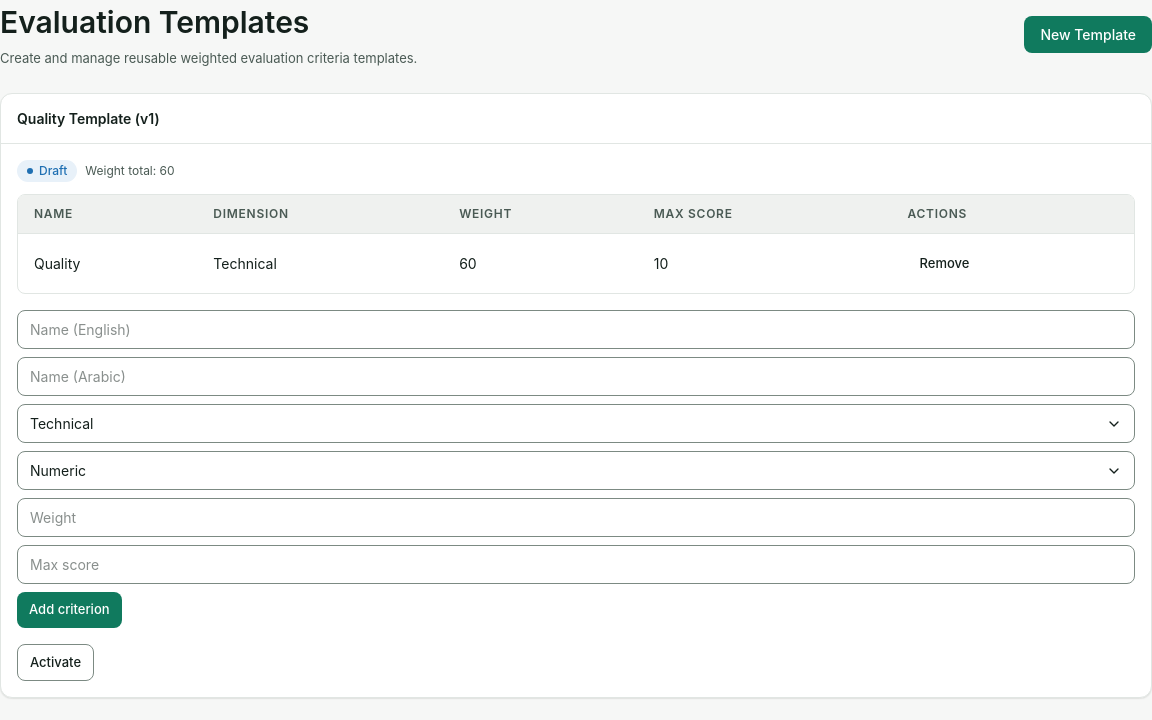
Test: EvaluationTemplatesPage › shows the domain weight-sum rejection message when adding a criterion fails
Type "Overweight" into the field labelled "Name (English)" at (576, 330), box [17, 310, 1135, 349]
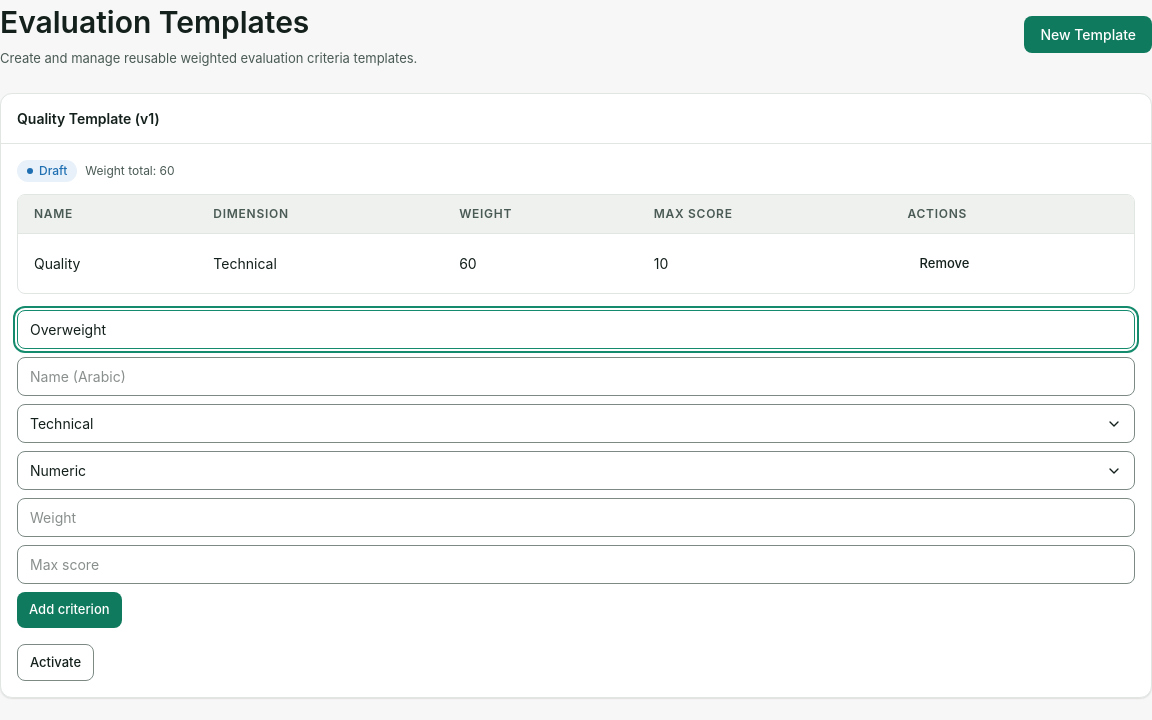
Type "ثقيل" into the field labelled "Name (Arabic)" at (576, 376), box [17, 357, 1135, 396]
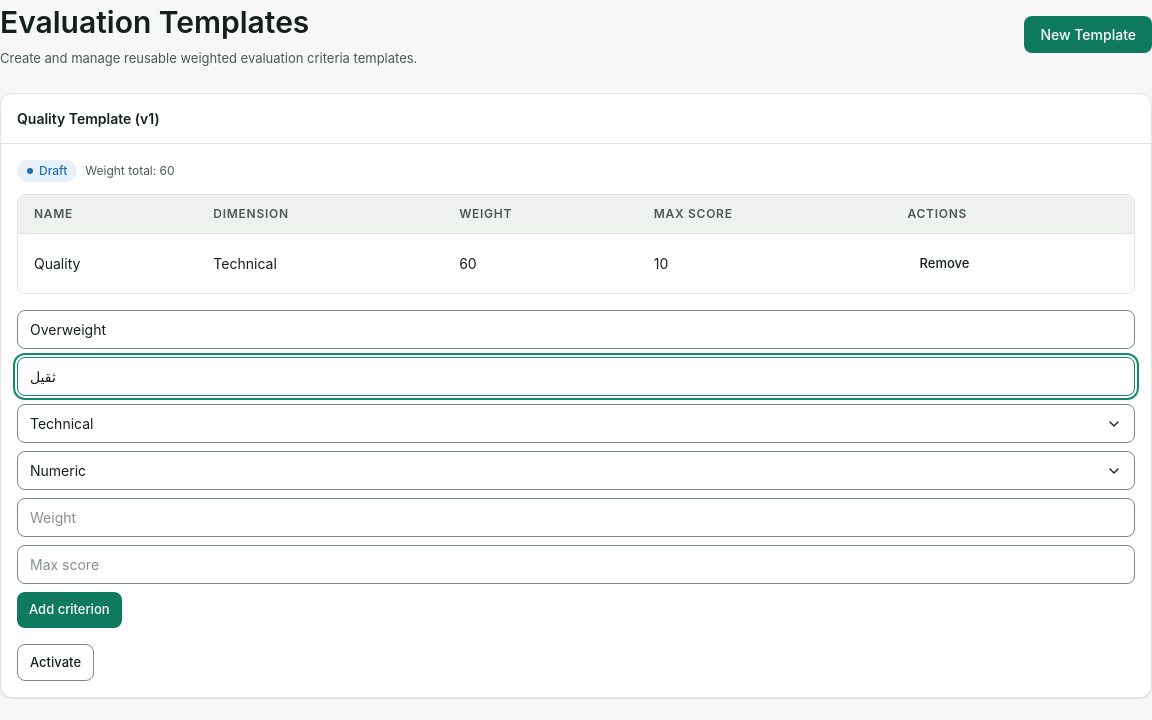
Type "50" into the number field labelled "Weight" at (576, 518), box [17, 498, 1135, 537]
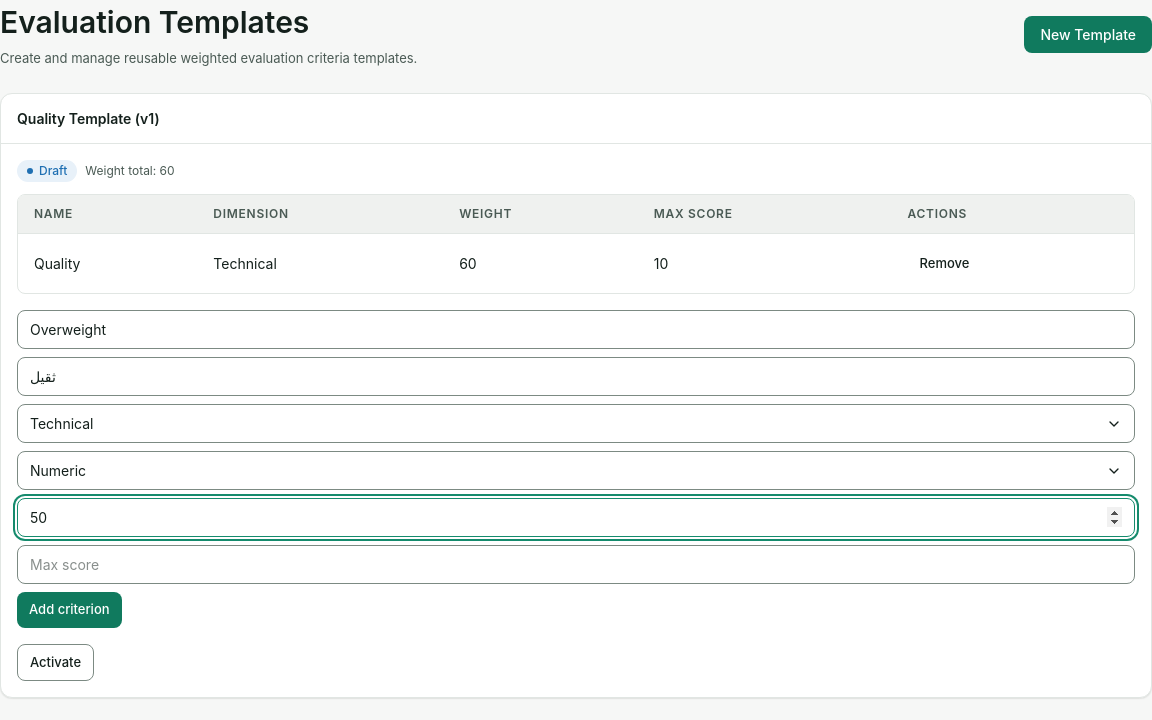
Type "10" into the number field labelled "Max score" at (576, 564), box [17, 545, 1135, 584]
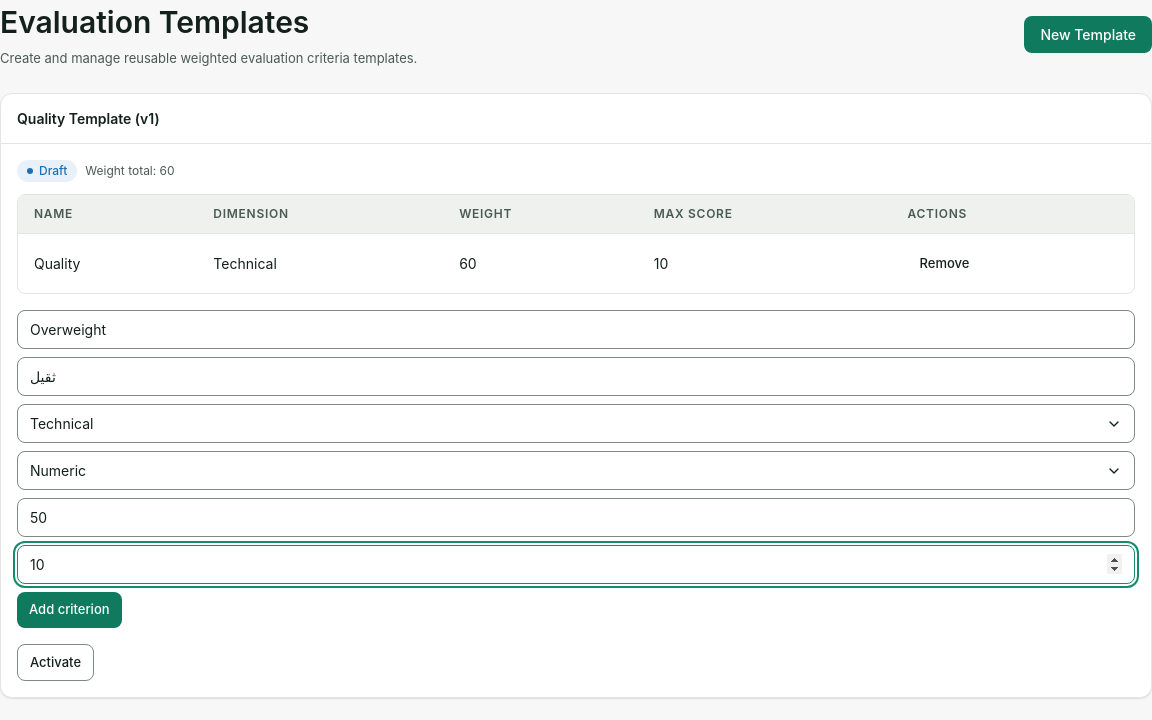
Click the button "Add criterion" at (69, 610), box [17, 592, 122, 628]
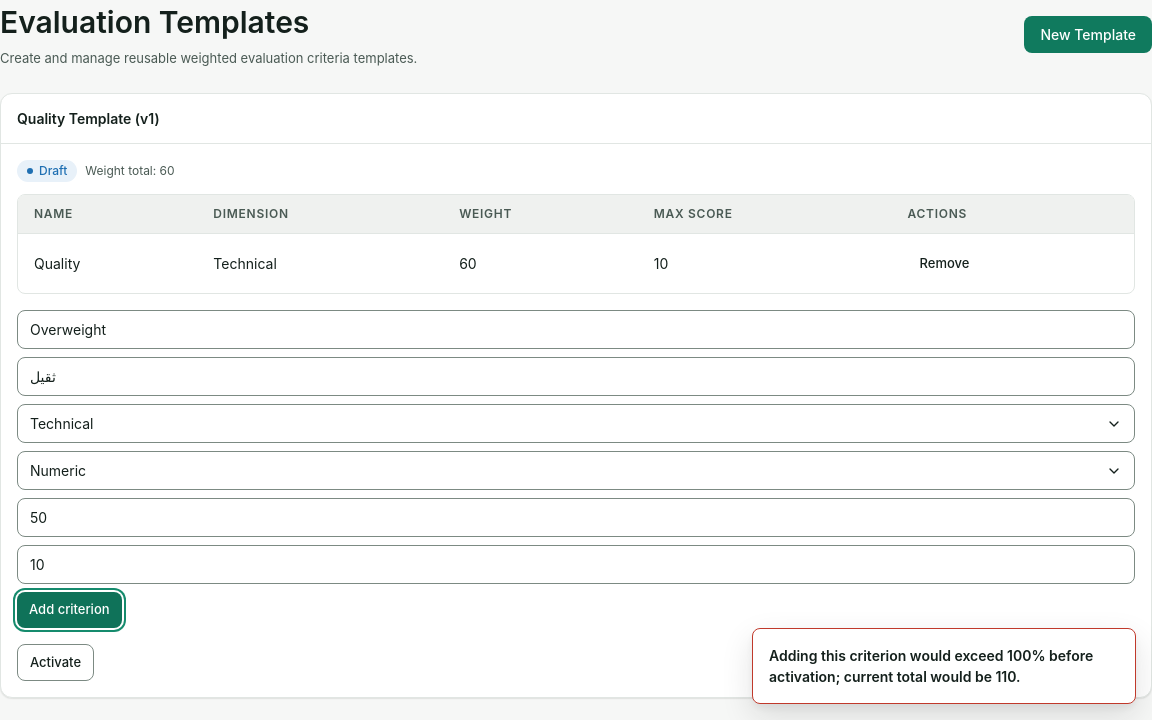
Expected: the text "Adding this criterion would exceed 100% before activation; current total would be 110." is shown, [769, 647, 1093, 685]
